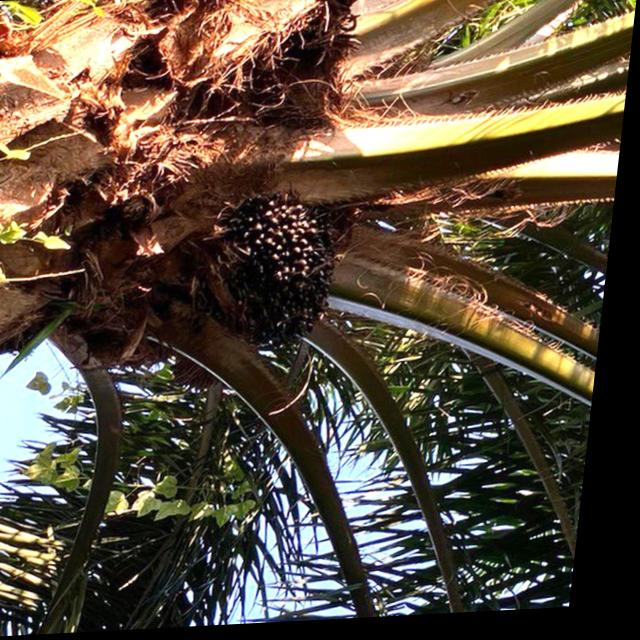almost: (200, 177, 371, 364)
